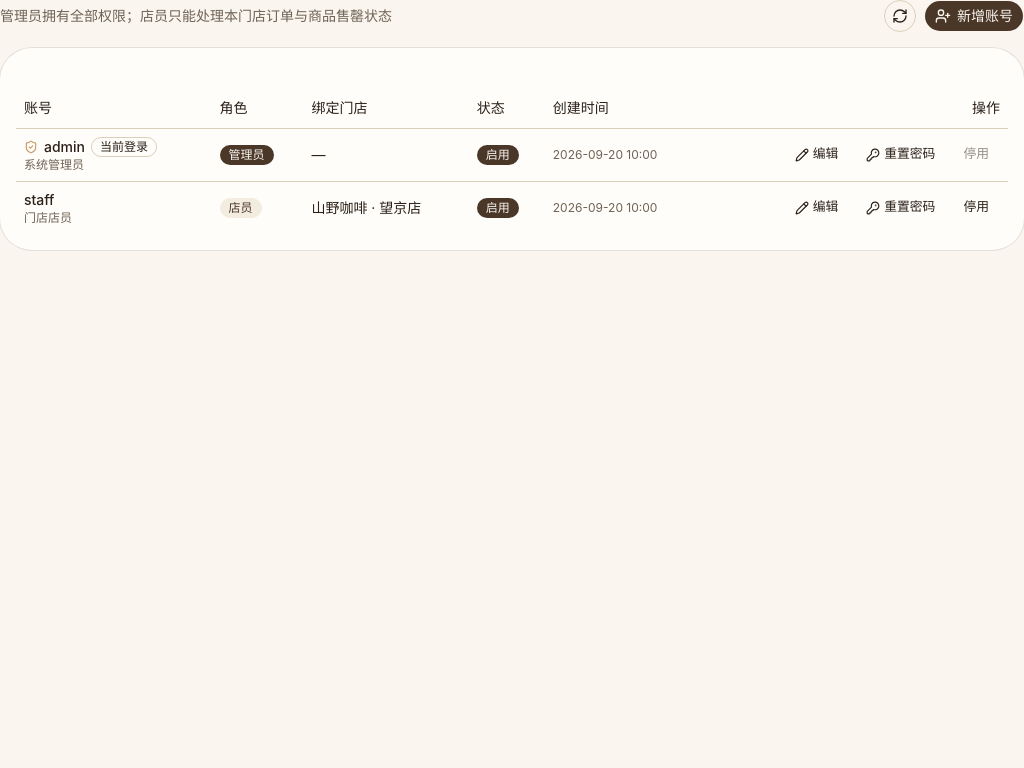
Scenario: AccountsPage › 新增账号并展示生成的密码
The width and height of the screenshot is (1024, 768).
Expected: the text "admin" is shown, [44, 138, 85, 154]
Click the button "新增账号": [974, 16] box [924, 0, 1023, 32]
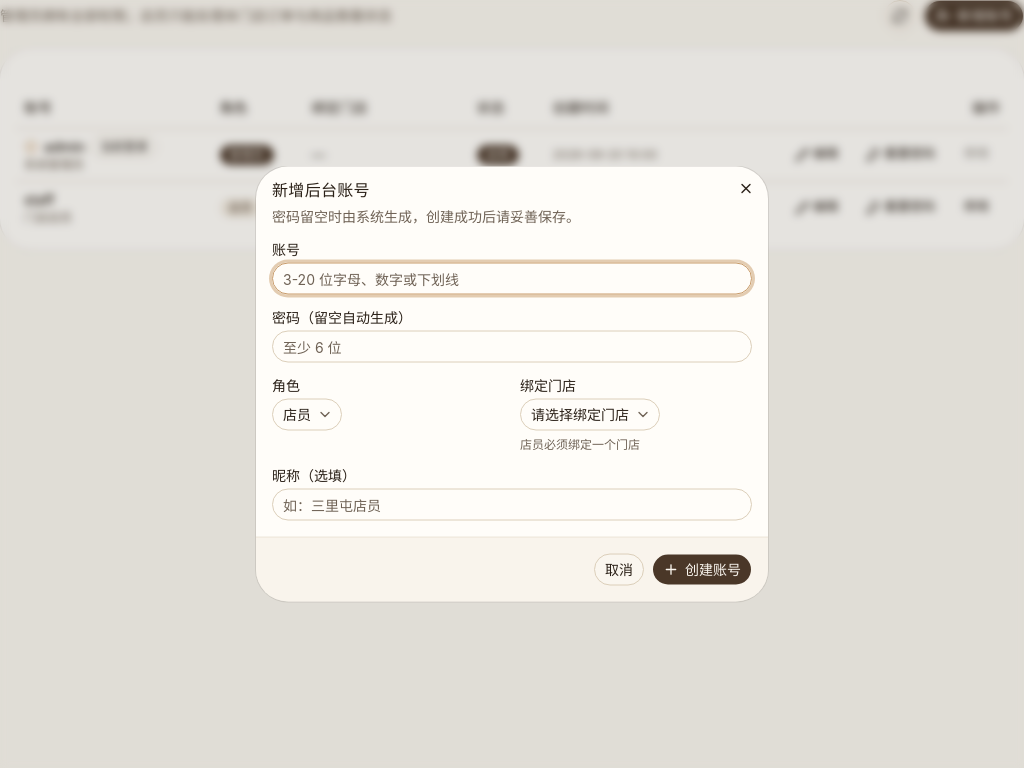
In the field labelled "账号": [512, 278] box [272, 262, 752, 294], type "newstaff"
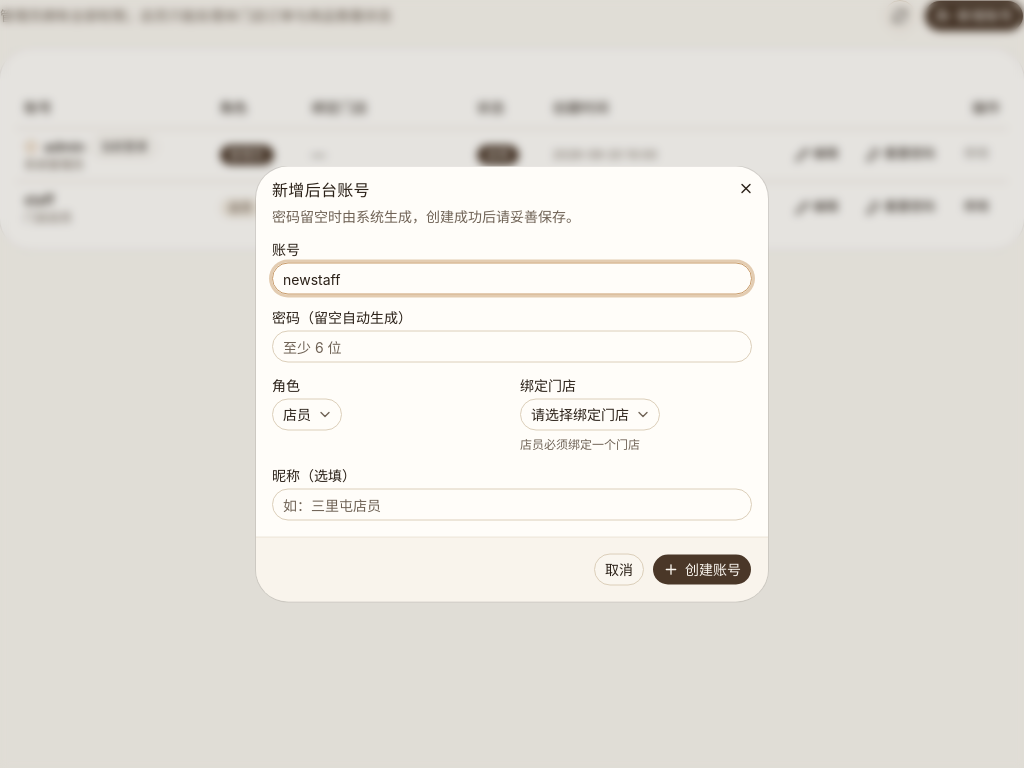
Note: 店员必须选择绑定门店（不再预置第一家）
Click the dropdown labelled "绑定门店": [590, 414] box [520, 398, 660, 430]
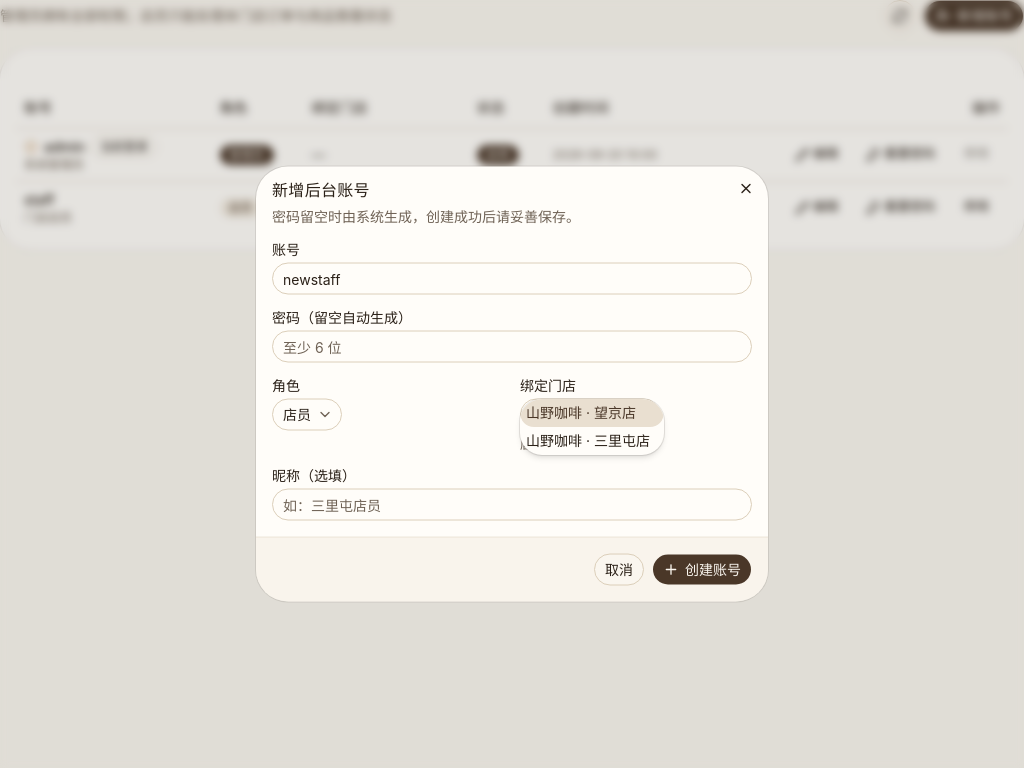
Click the option "山野咖啡 · 望京店": [592, 412] box [520, 398, 664, 426]
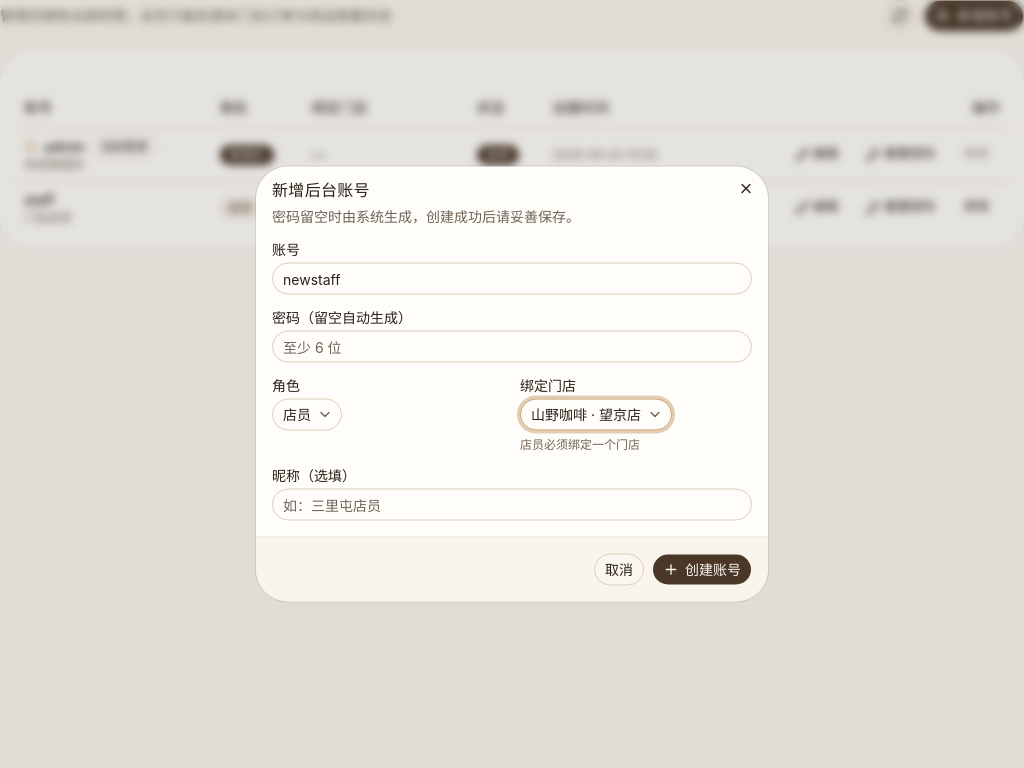
Click the button "创建账号": [702, 570] box [652, 554, 752, 586]
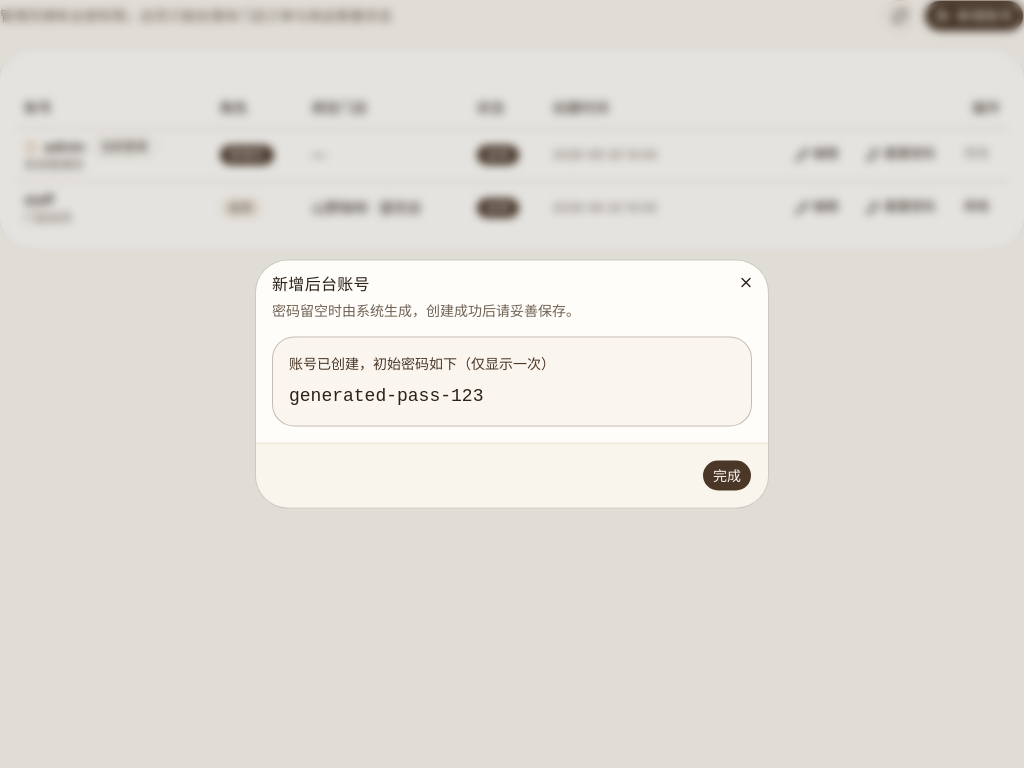
Expected: the text "generated-pass-123" is shown, [289, 386, 483, 406]
